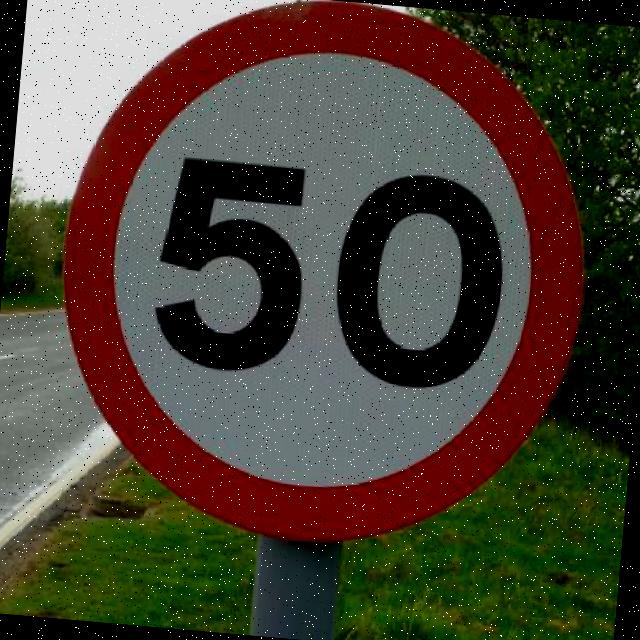Ograniczenie predkosci do 50: (63, 0, 603, 548)
